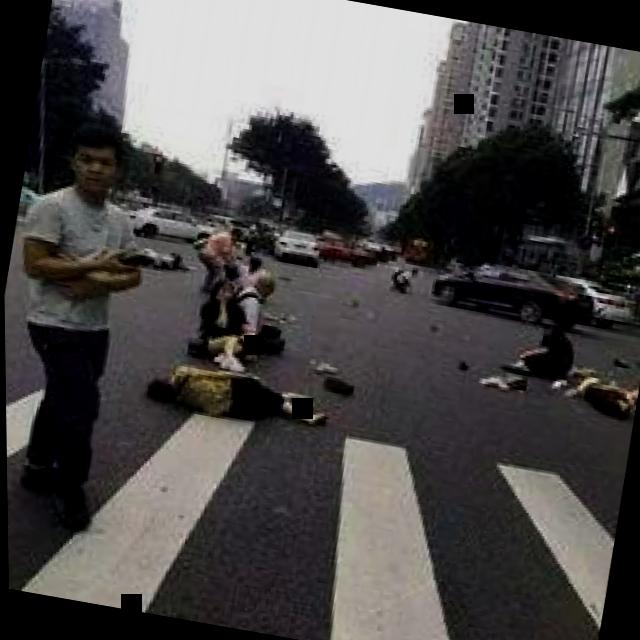Fall-Detected: (182, 262, 262, 364)
